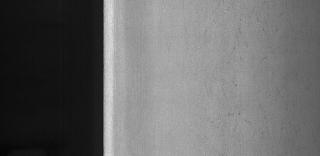silk spot: (206, 0, 294, 152)
